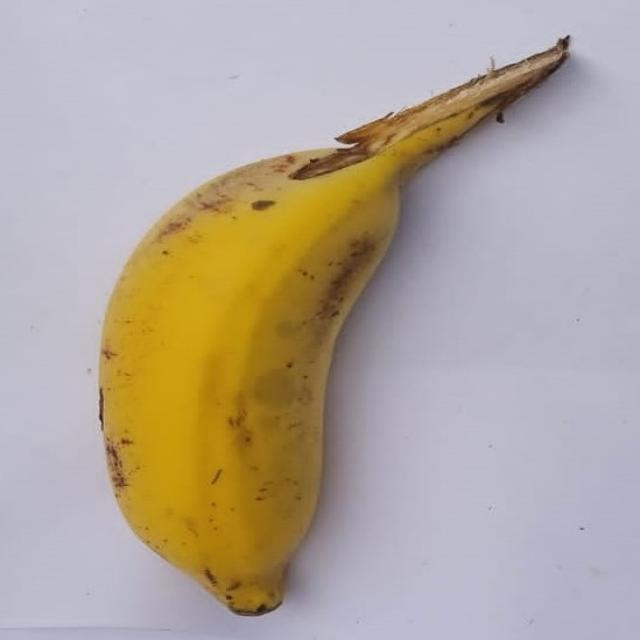banana: (101, 40, 567, 614)
